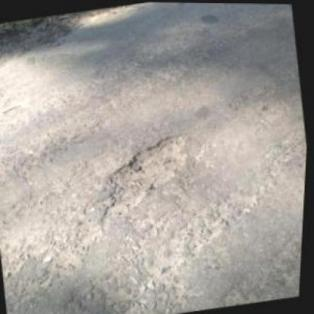Hueco: (91, 129, 201, 221)
